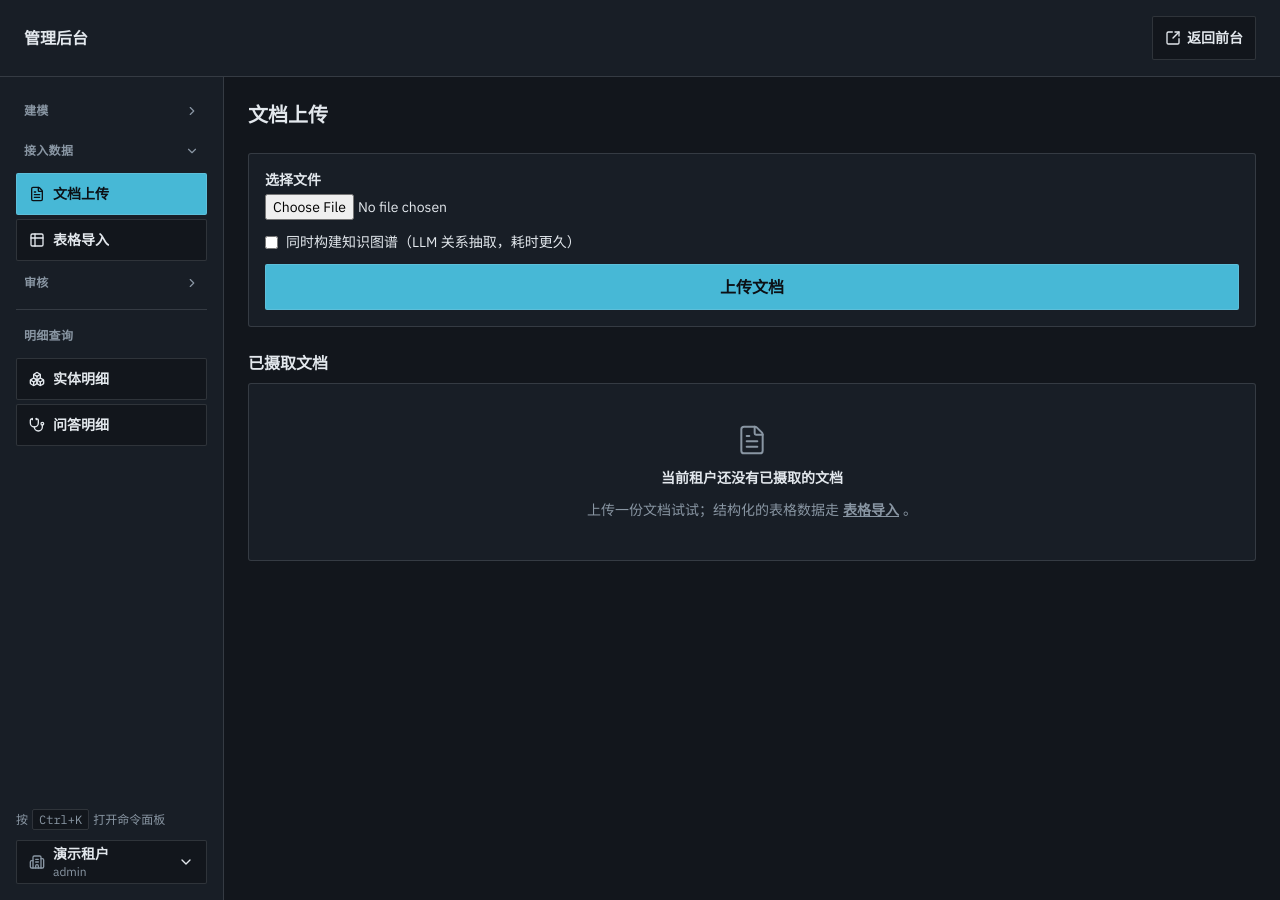
Test case: admin 的菜单 › 可以切换到另一个租户
Expected: the header with test id "admin-topbar" is shown, [0,0,1279,77]
Click the button with aria-label "账号与租户" at (112, 862), box [16,840,207,884]
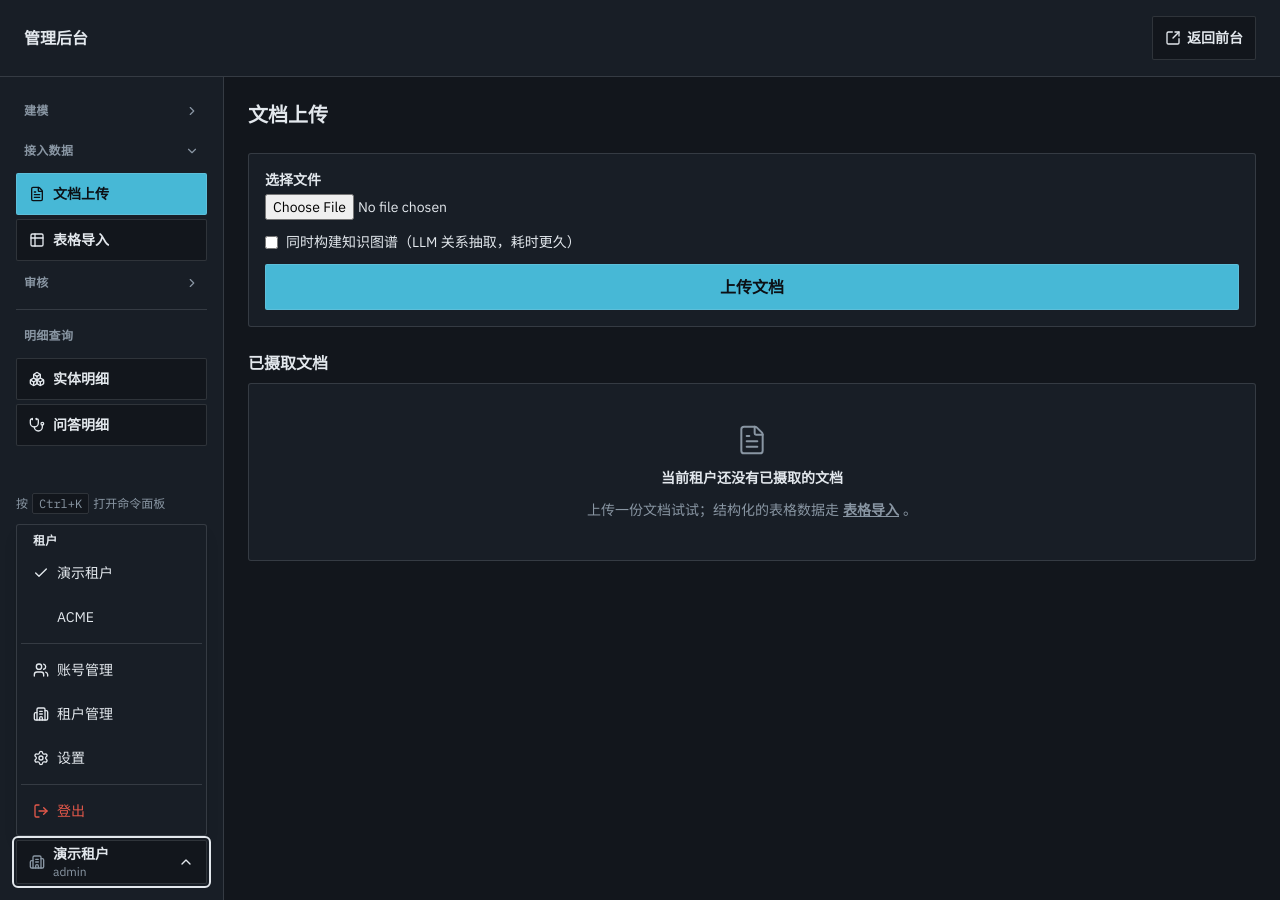
Click the menu item "ACME" at (112, 617), box [21,597,202,637]
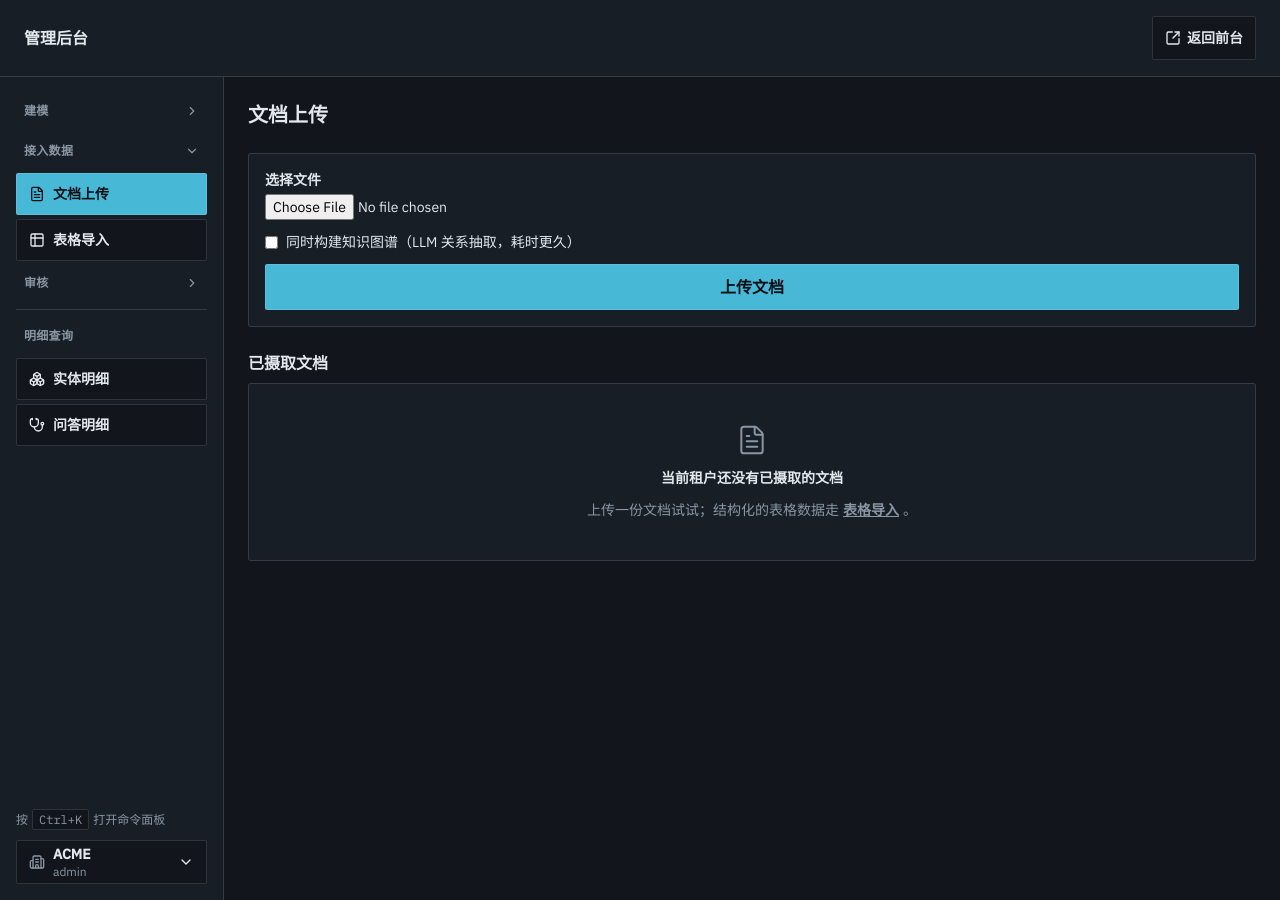
Result: the button with aria-label "账号与租户" shows "ACME" at [16,840,207,884]
